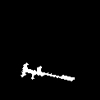double_crochet: (21, 63, 73, 80)
